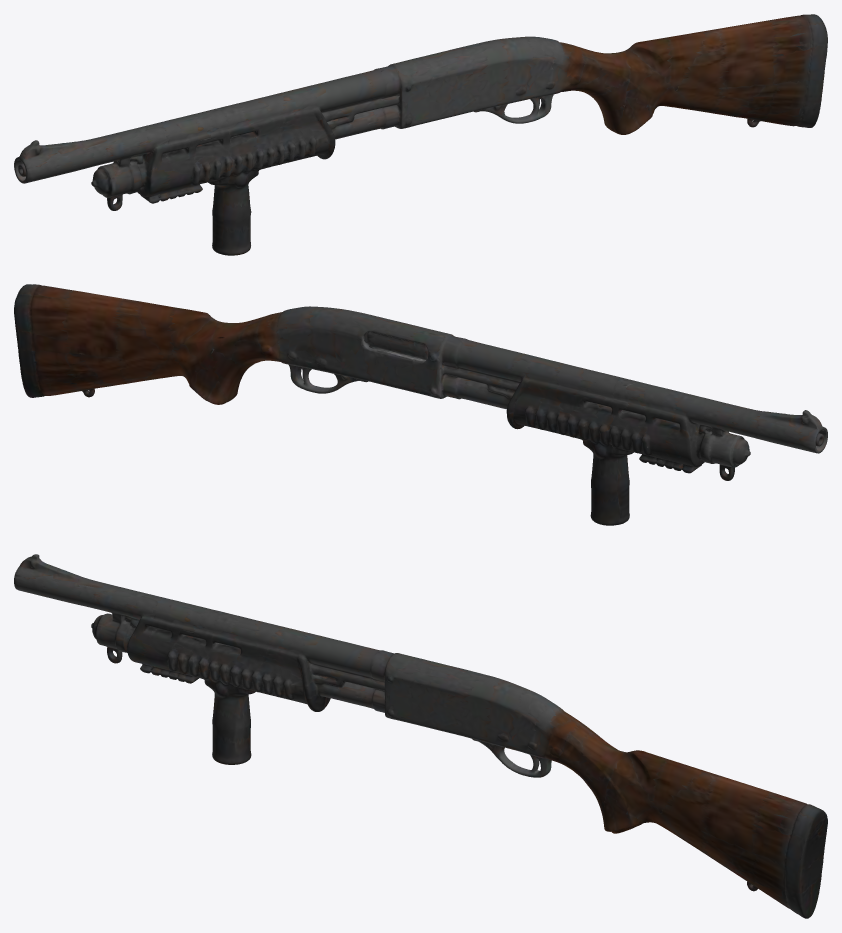
The model's file is shotgun.glb.
3 renders of one model, top to bottom at view 1: azimuth 30°, elevation 25°; view 2: azimuth 150°, elevation 25°; view 3: azimuth 330°, elevation 25°, orthographic.
Bounding box in the file's own units: 1.9 × 0.3965 × 0.1185.
1 material, 1 textured.
